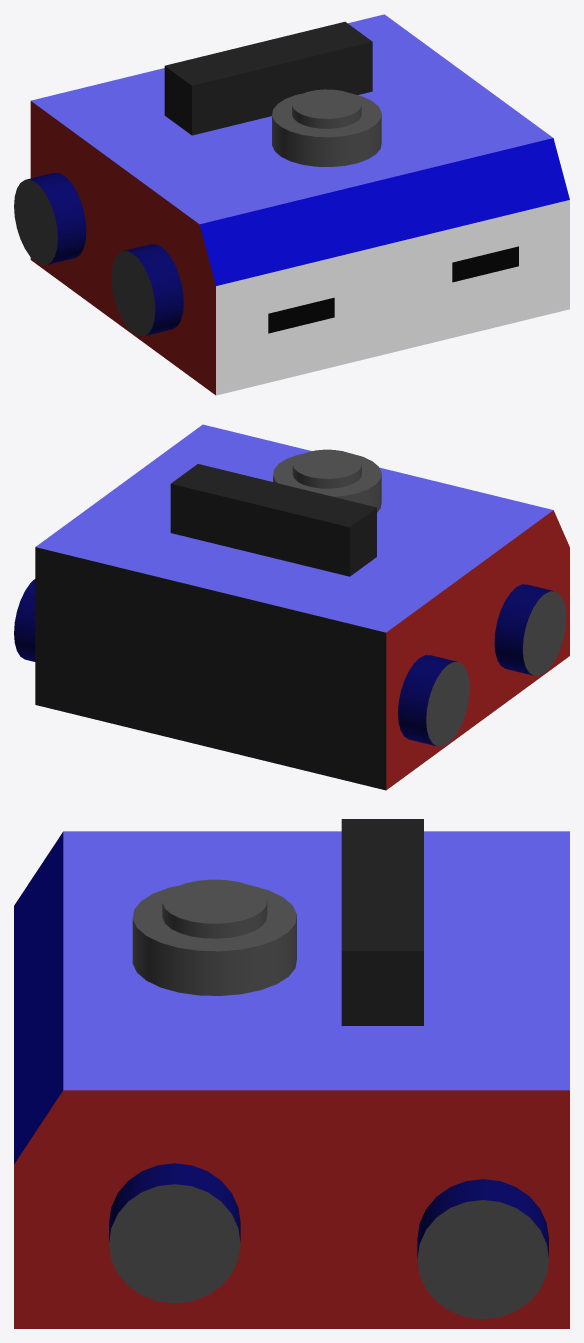
File: ROSBOT_realSize_hover.gltf
The picture shows the model from 3 angles, top to bottom: view 1: azimuth 30°, elevation 25°; view 2: azimuth 150°, elevation 25°; view 3: azimuth 270°, elevation 25°; orthographic projection. The views are drawn at different scales.
Parts seen in each view (by area): view 1: root; view 2: root; view 3: root.
Boxes of the visible parts, x1,y1,x2,y2 form: root: (14,14,569,395); root: (14,424,569,790); root: (14,819,569,1328).
Bounding box in the file's own units: 0.2411 × 0.1172 × 0.1885.
